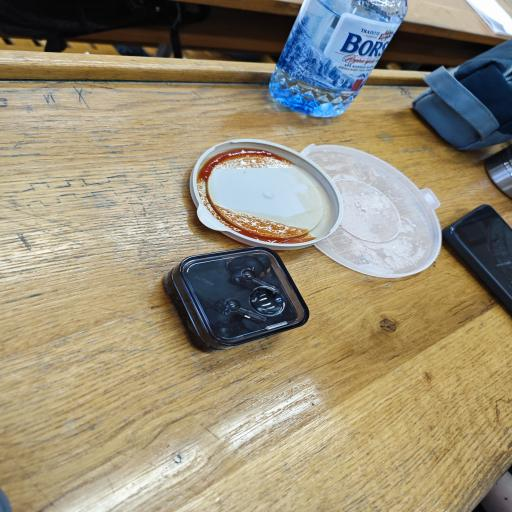Headphones: (157, 240, 321, 362)
